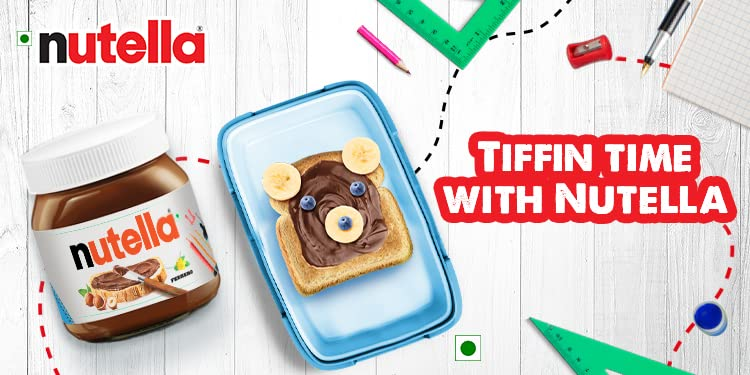veg: (456, 333, 485, 370), (10, 29, 33, 50)
